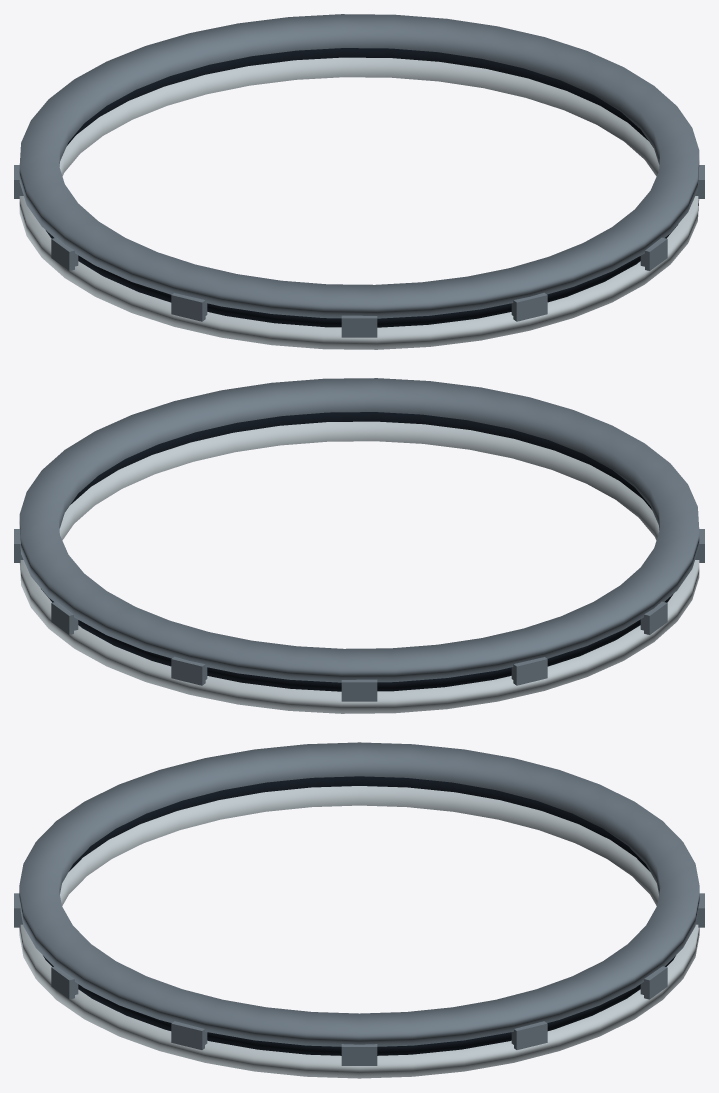
File: titan_centaur_separation_joint.glb
3 views of the same model, one above another, from view 1: azimuth 30°, elevation 25°; view 2: azimuth 150°, elevation 25°; view 3: azimuth 270°, elevation 25° (orthographic).
Visible parts, largest first — view 1: titan_centaur_separation_joint.mesh_Machined_steel, titan_centaur_separation_joint.mesh_Satin_aluminum, titan_centaur_separation_joint.mesh_Shadowed_interior; view 2: titan_centaur_separation_joint.mesh_Machined_steel, titan_centaur_separation_joint.mesh_Satin_aluminum, titan_centaur_separation_joint.mesh_Shadowed_interior; view 3: titan_centaur_separation_joint.mesh_Machined_steel, titan_centaur_separation_joint.mesh_Satin_aluminum, titan_centaur_separation_joint.mesh_Shadowed_interior.
Boxes of the visible parts, <box> form: titan_centaur_separation_joint.mesh_Machined_steel: <box>14,14,704,337</box>; titan_centaur_separation_joint.mesh_Satin_aluminum: <box>19,57,699,349</box>; titan_centaur_separation_joint.mesh_Shadowed_interior: <box>46,48,677,327</box>; titan_centaur_separation_joint.mesh_Machined_steel: <box>14,378,704,701</box>; titan_centaur_separation_joint.mesh_Satin_aluminum: <box>19,421,699,713</box>; titan_centaur_separation_joint.mesh_Shadowed_interior: <box>41,412,672,691</box>; titan_centaur_separation_joint.mesh_Machined_steel: <box>14,742,704,1065</box>; titan_centaur_separation_joint.mesh_Satin_aluminum: <box>19,786,699,1078</box>; titan_centaur_separation_joint.mesh_Shadowed_interior: <box>43,776,675,1055</box>.
Bounding box in the file's own units: 3.1 × 0.24 × 3.1.
